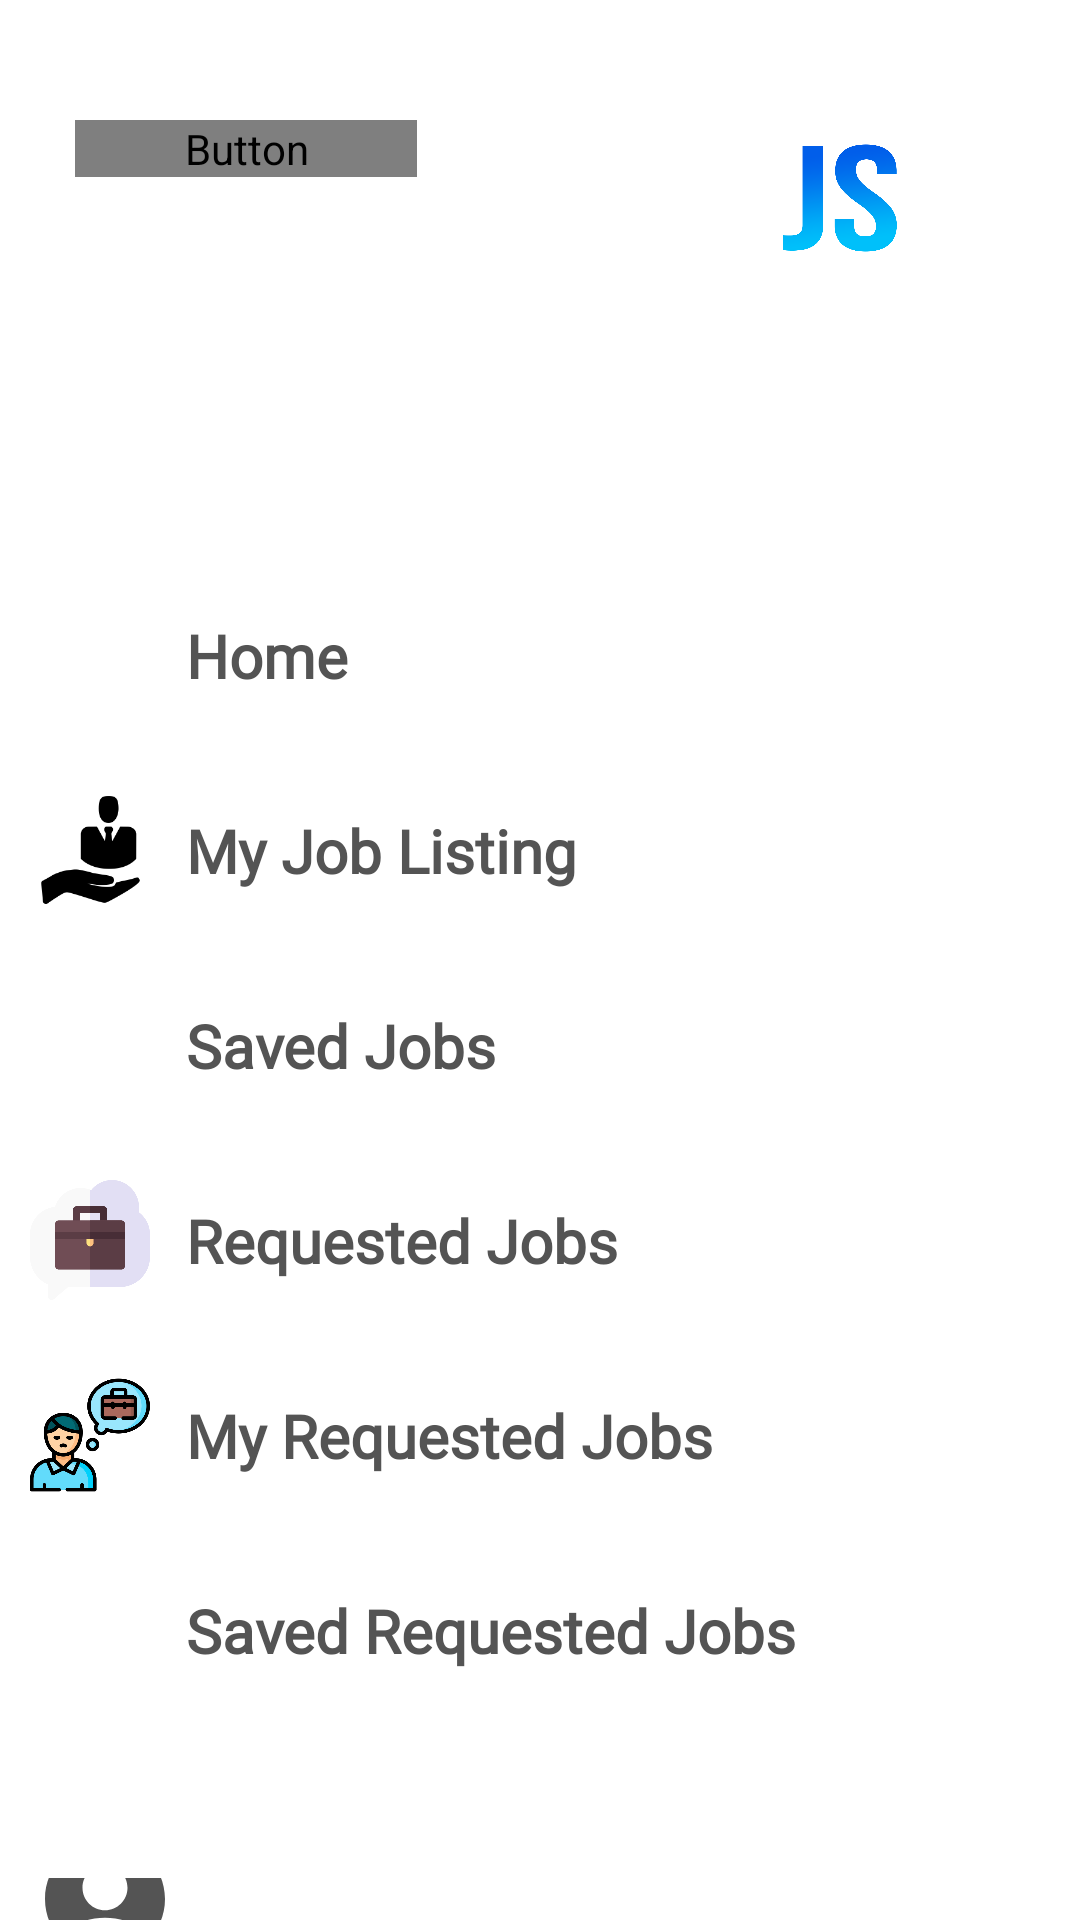

Where icons sit on this 1080 x 1920 app screen, as Rect(x1, y1, x2, y2):
job: Rect(55, 1180, 150, 1287)
need: Rect(30, 1378, 150, 1492)
